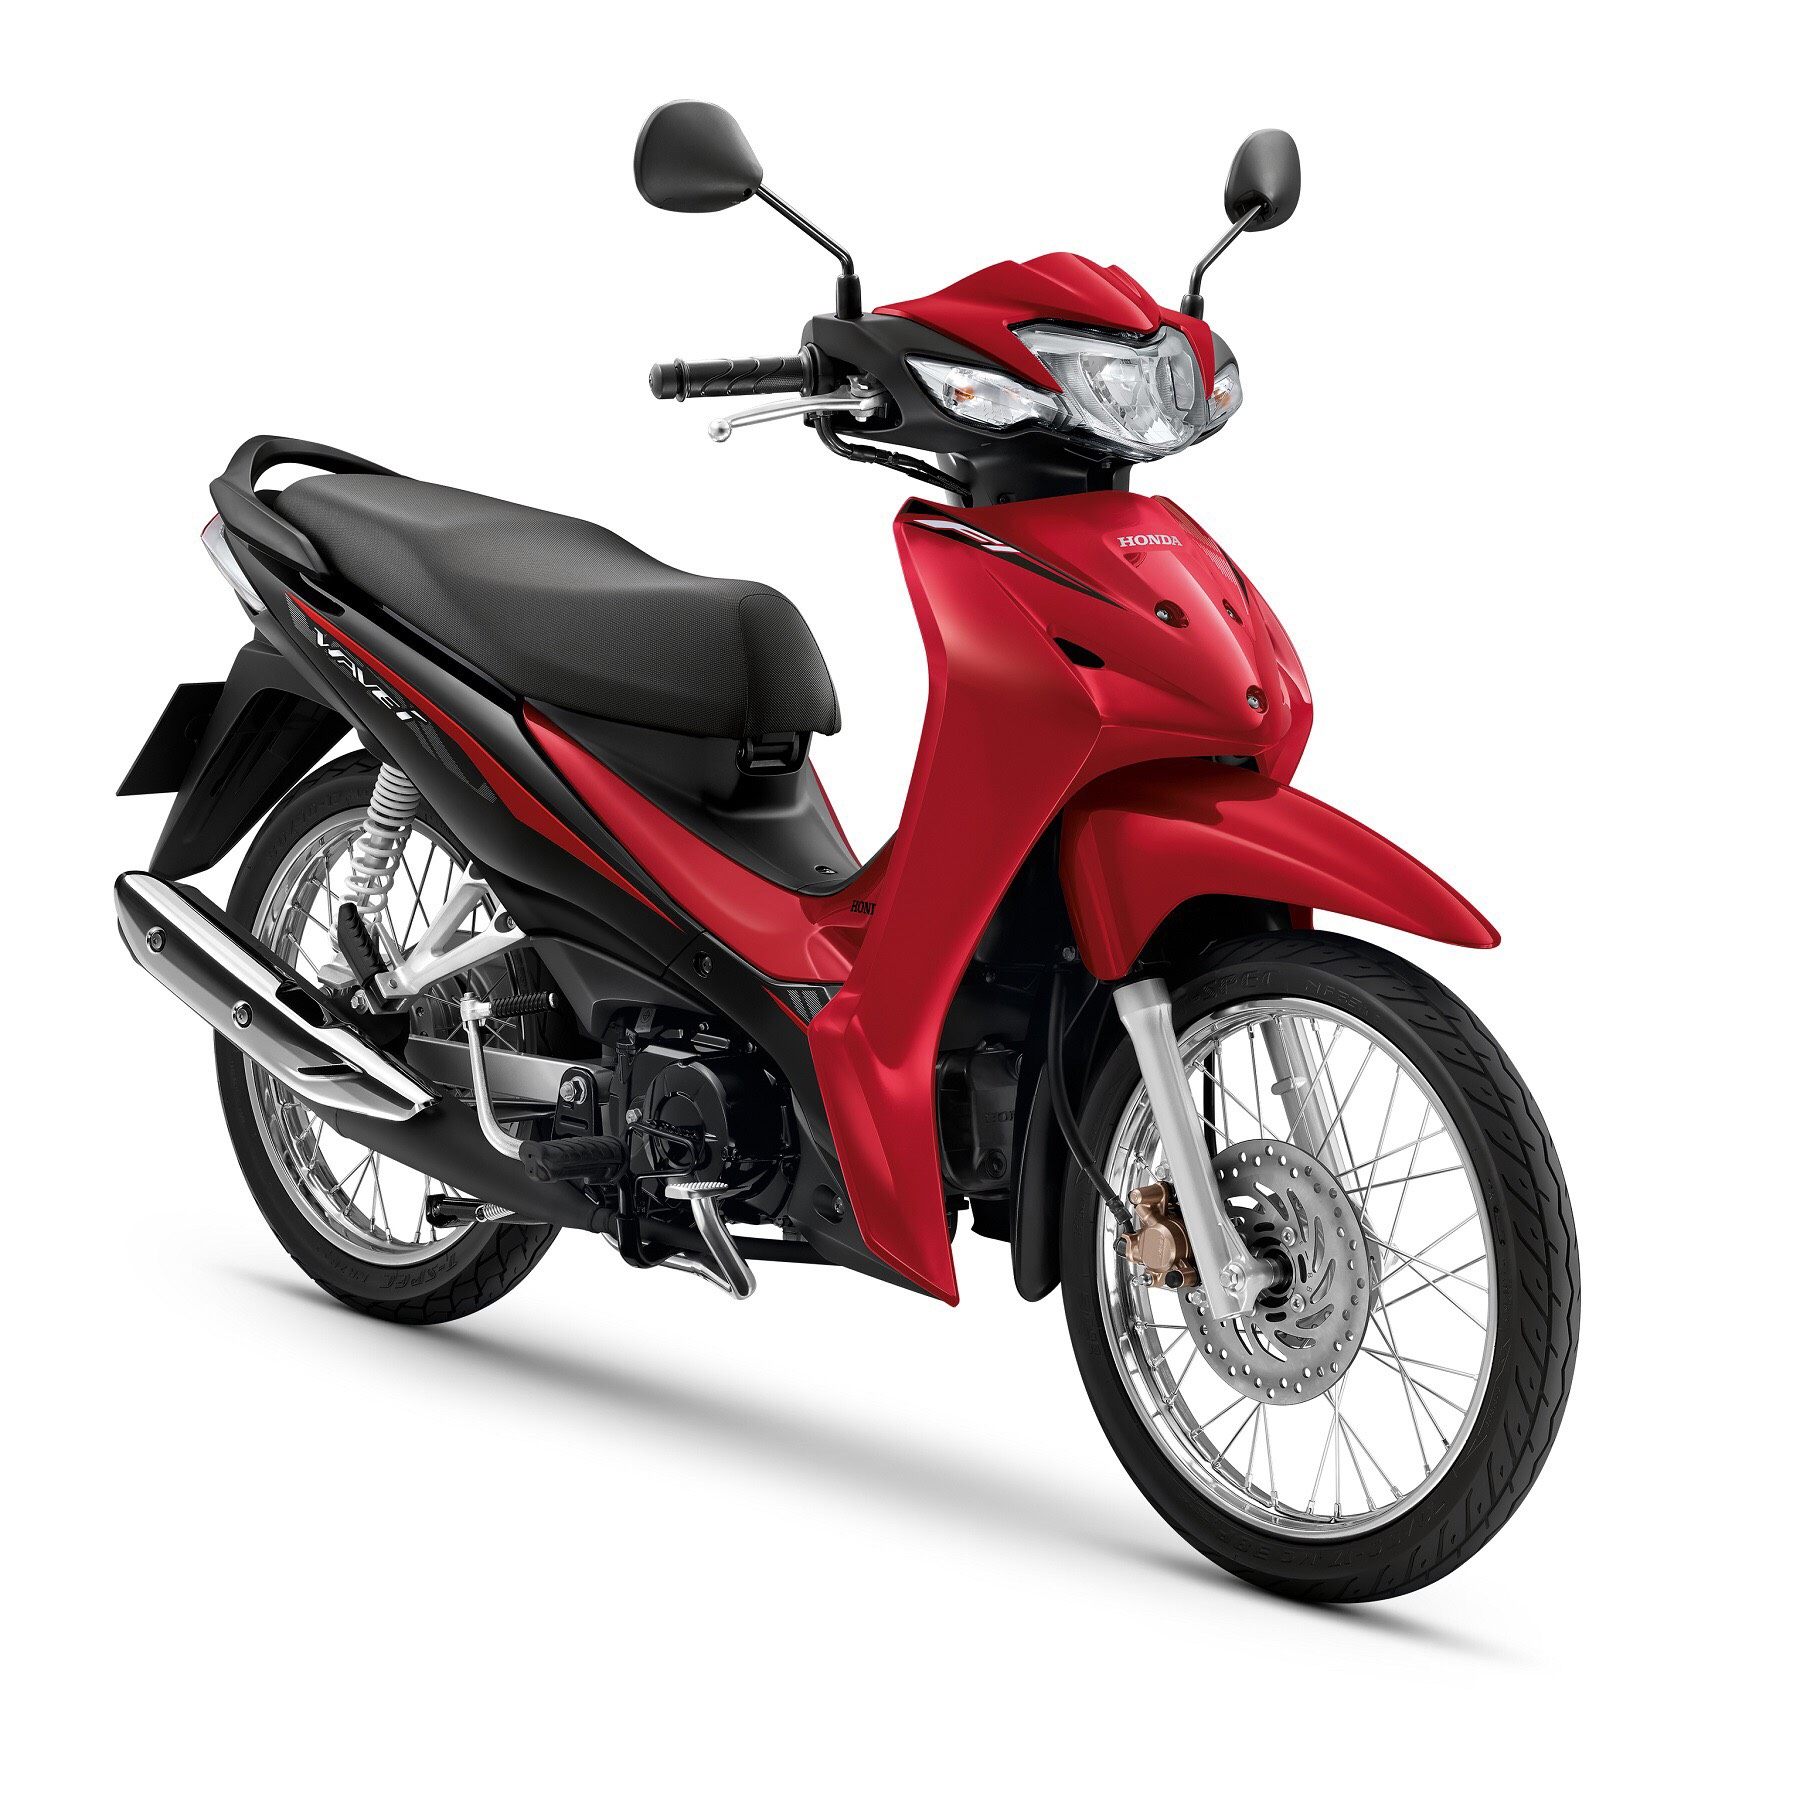motorcycle: (119, 105, 1591, 1610)
